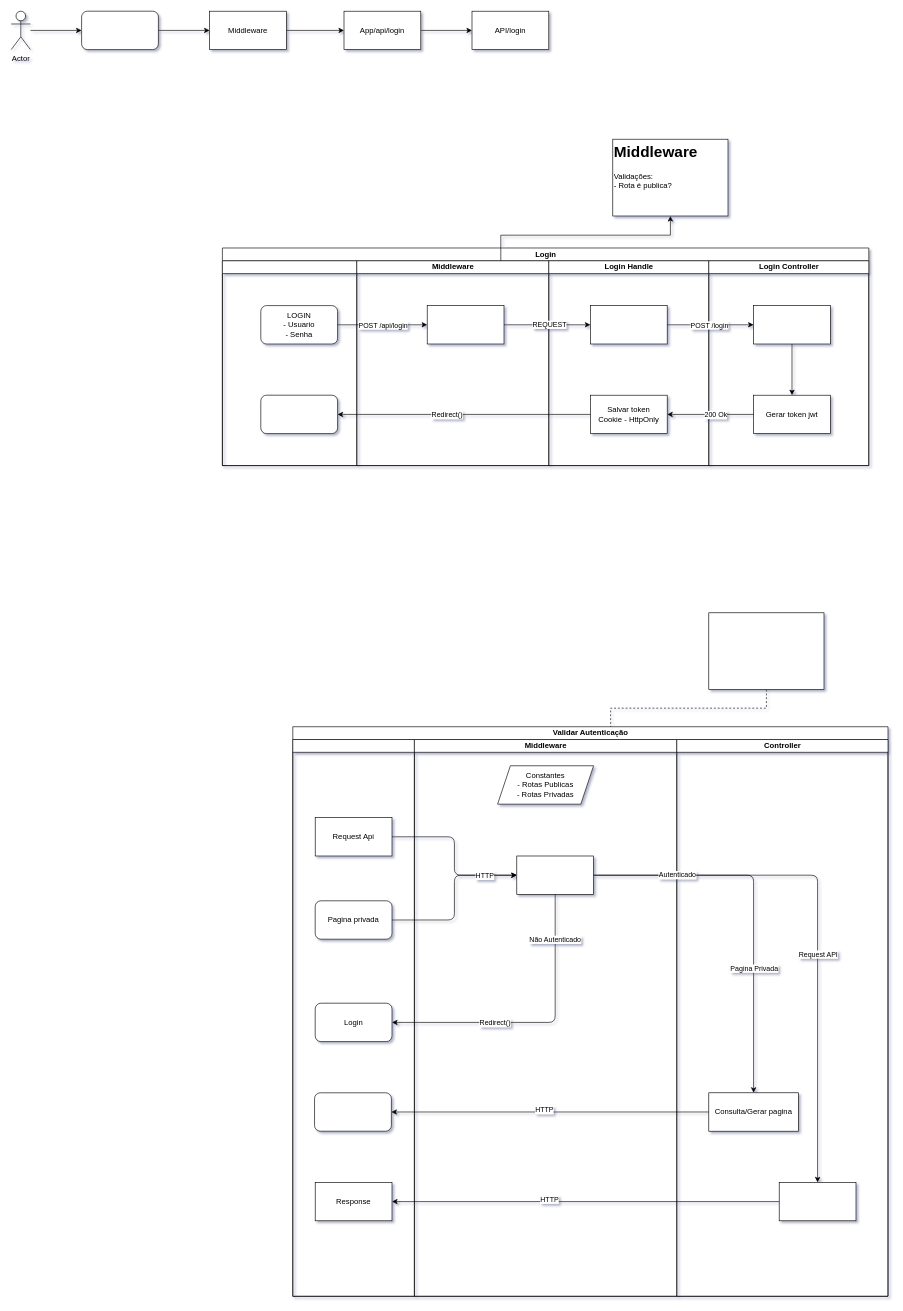
This 903x1311 diagram has some shape labels left out. The box of each missing label's shape, as (x1, y1, x2, y2) in pixels:
/api/(request): (779, 1182, 856, 1221)
Api / Interface: (292, 739, 414, 1296)
App/Login: (81, 11, 158, 50)
Autenticado?: (516, 855, 594, 894)
Envia credenciais: (590, 305, 667, 344)
Home: (260, 395, 338, 434)
Interface: (222, 260, 357, 466)
Middleware Autenticado? - Existe sessão do token?: (708, 612, 824, 690)
Pagina: (314, 1092, 391, 1131)
Rota publica?: (427, 305, 504, 344)
Validar credenciais: (753, 305, 830, 344)
